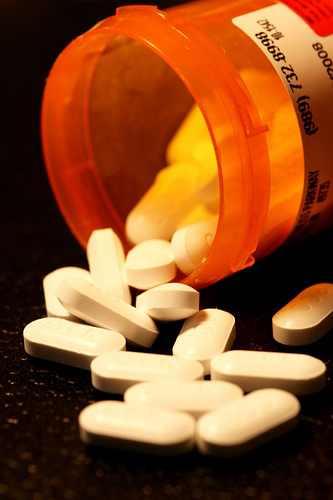pill bottle: (45, 7, 333, 285)
